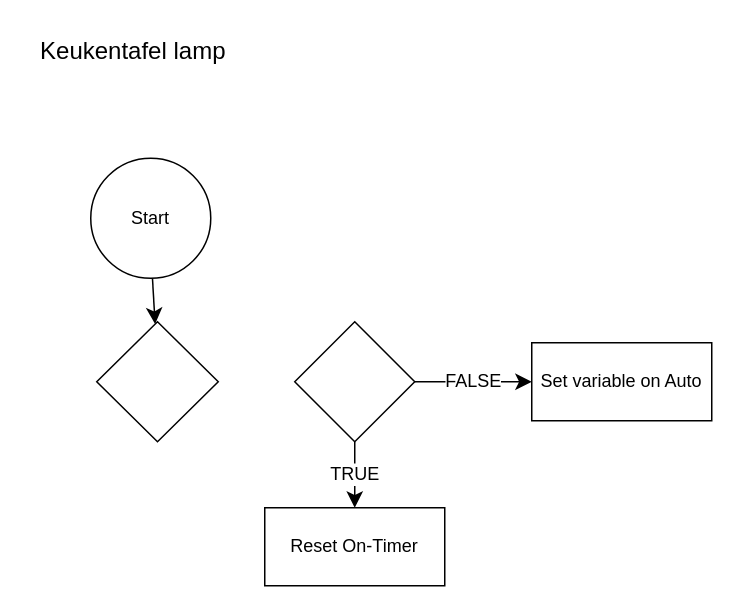
Some shapes in this 738 by 612 pixel diagram are drawn without their labels. The box of each missing label's shape, as (x1, y1, x2, y2) in pixels:
aan/uit: (95, 320, 218, 442)
IF Auto: (293, 320, 415, 442)
